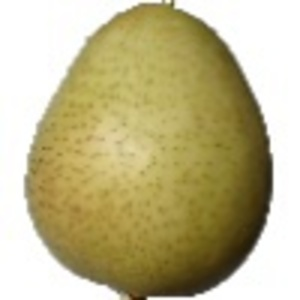pera: (9, 1, 274, 300)
